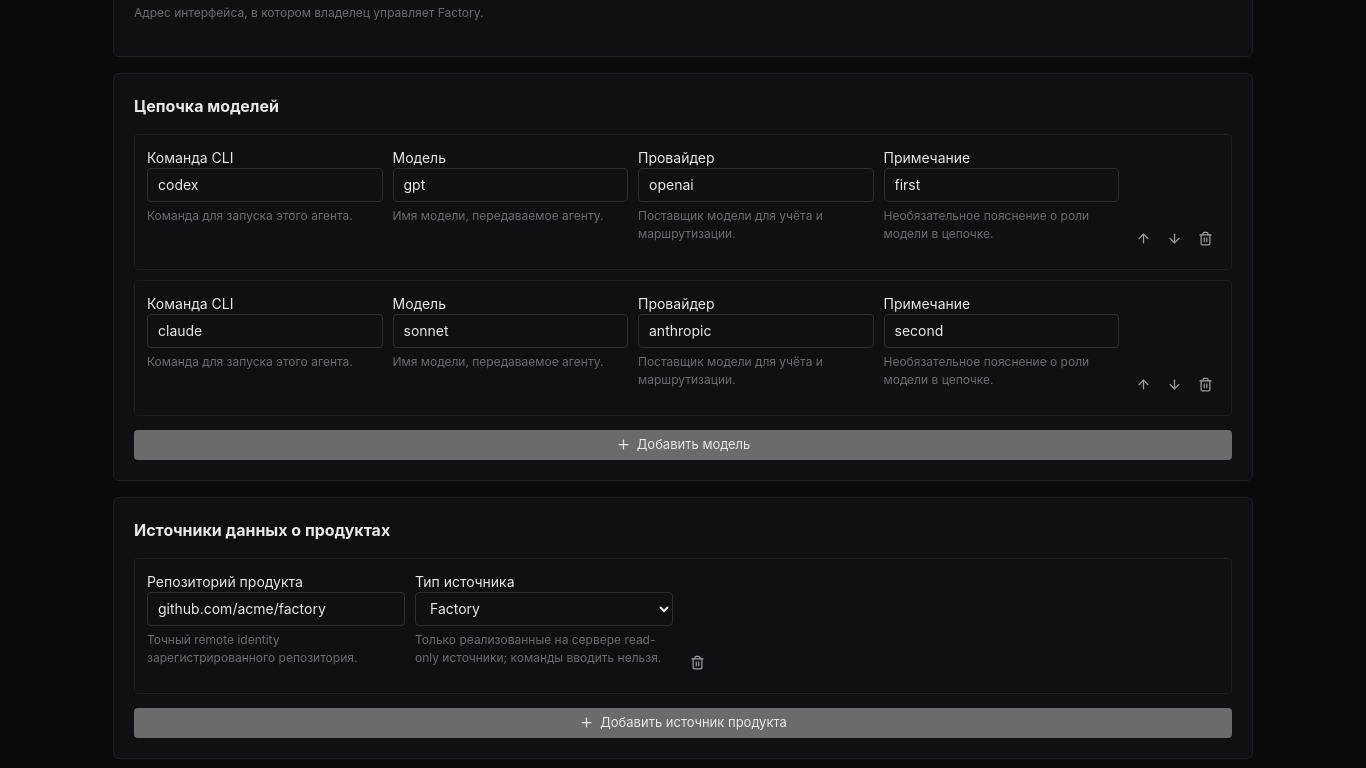
Test case: changes the brain-chain order and saves notes with that order
The width and height of the screenshot is (1366, 768).
(page scrolled)
Click the 2nd button named "Поднять": (1143, 384) [1129,370,1157,398]
(page scrolled)
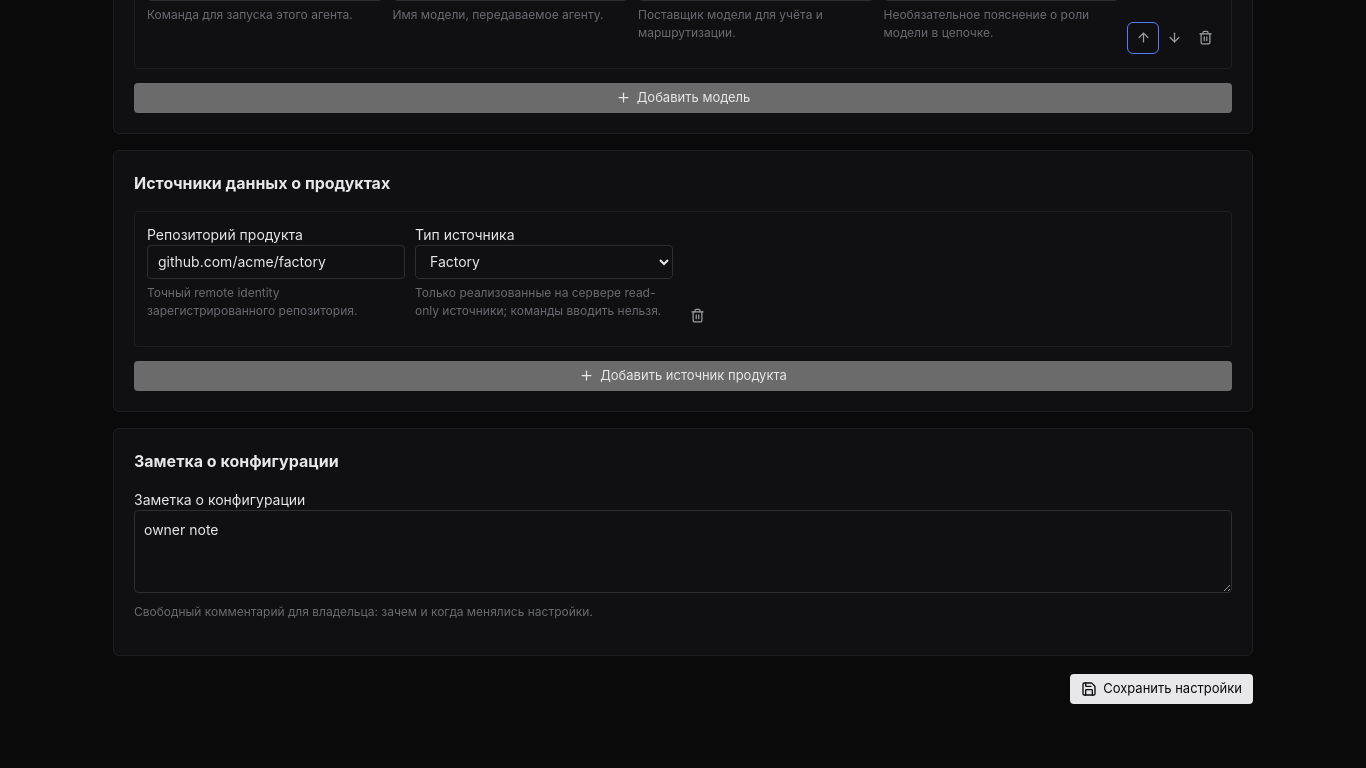
Click the button "Сохранить настройки": (1162, 689) [1070,674,1253,704]
(page scrolled)
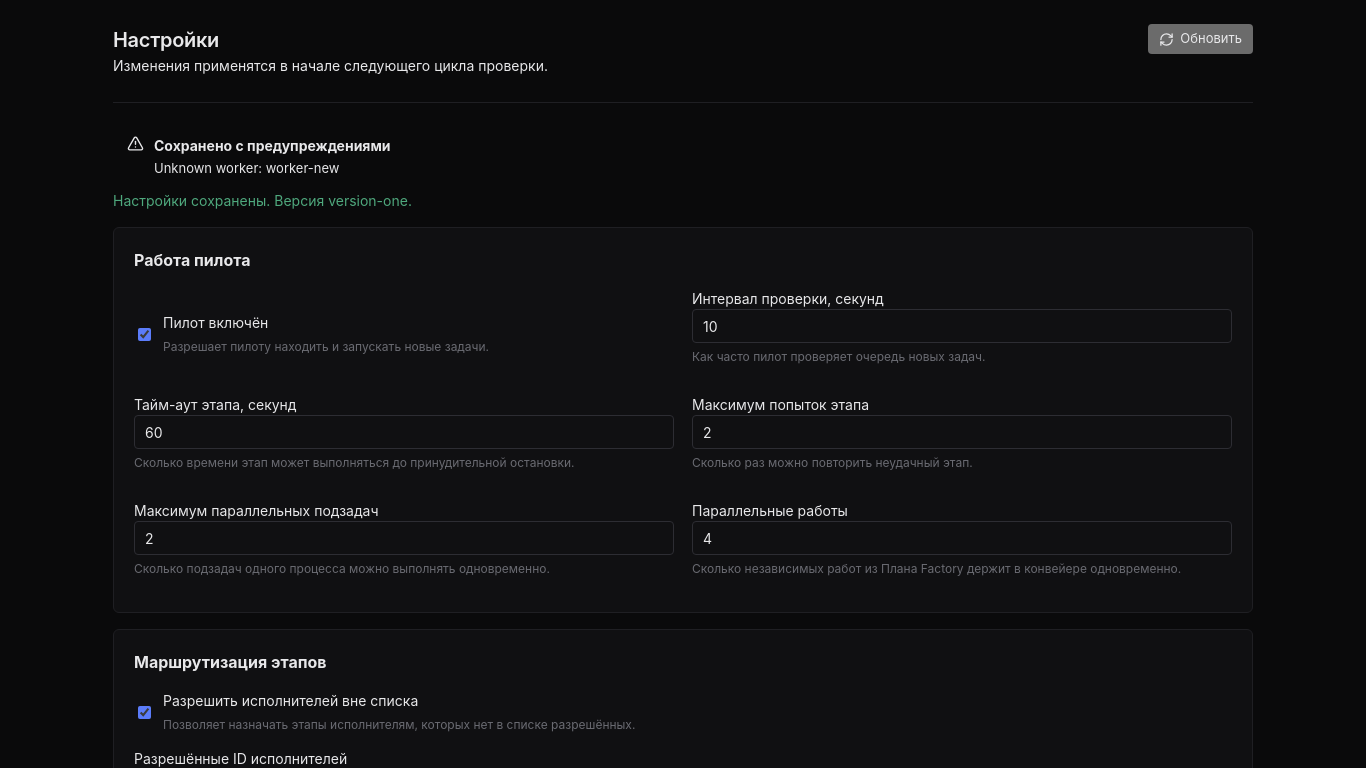
Result: the text "Настройки сохранены. Версия version-one." is shown at [113,192,412,209]
